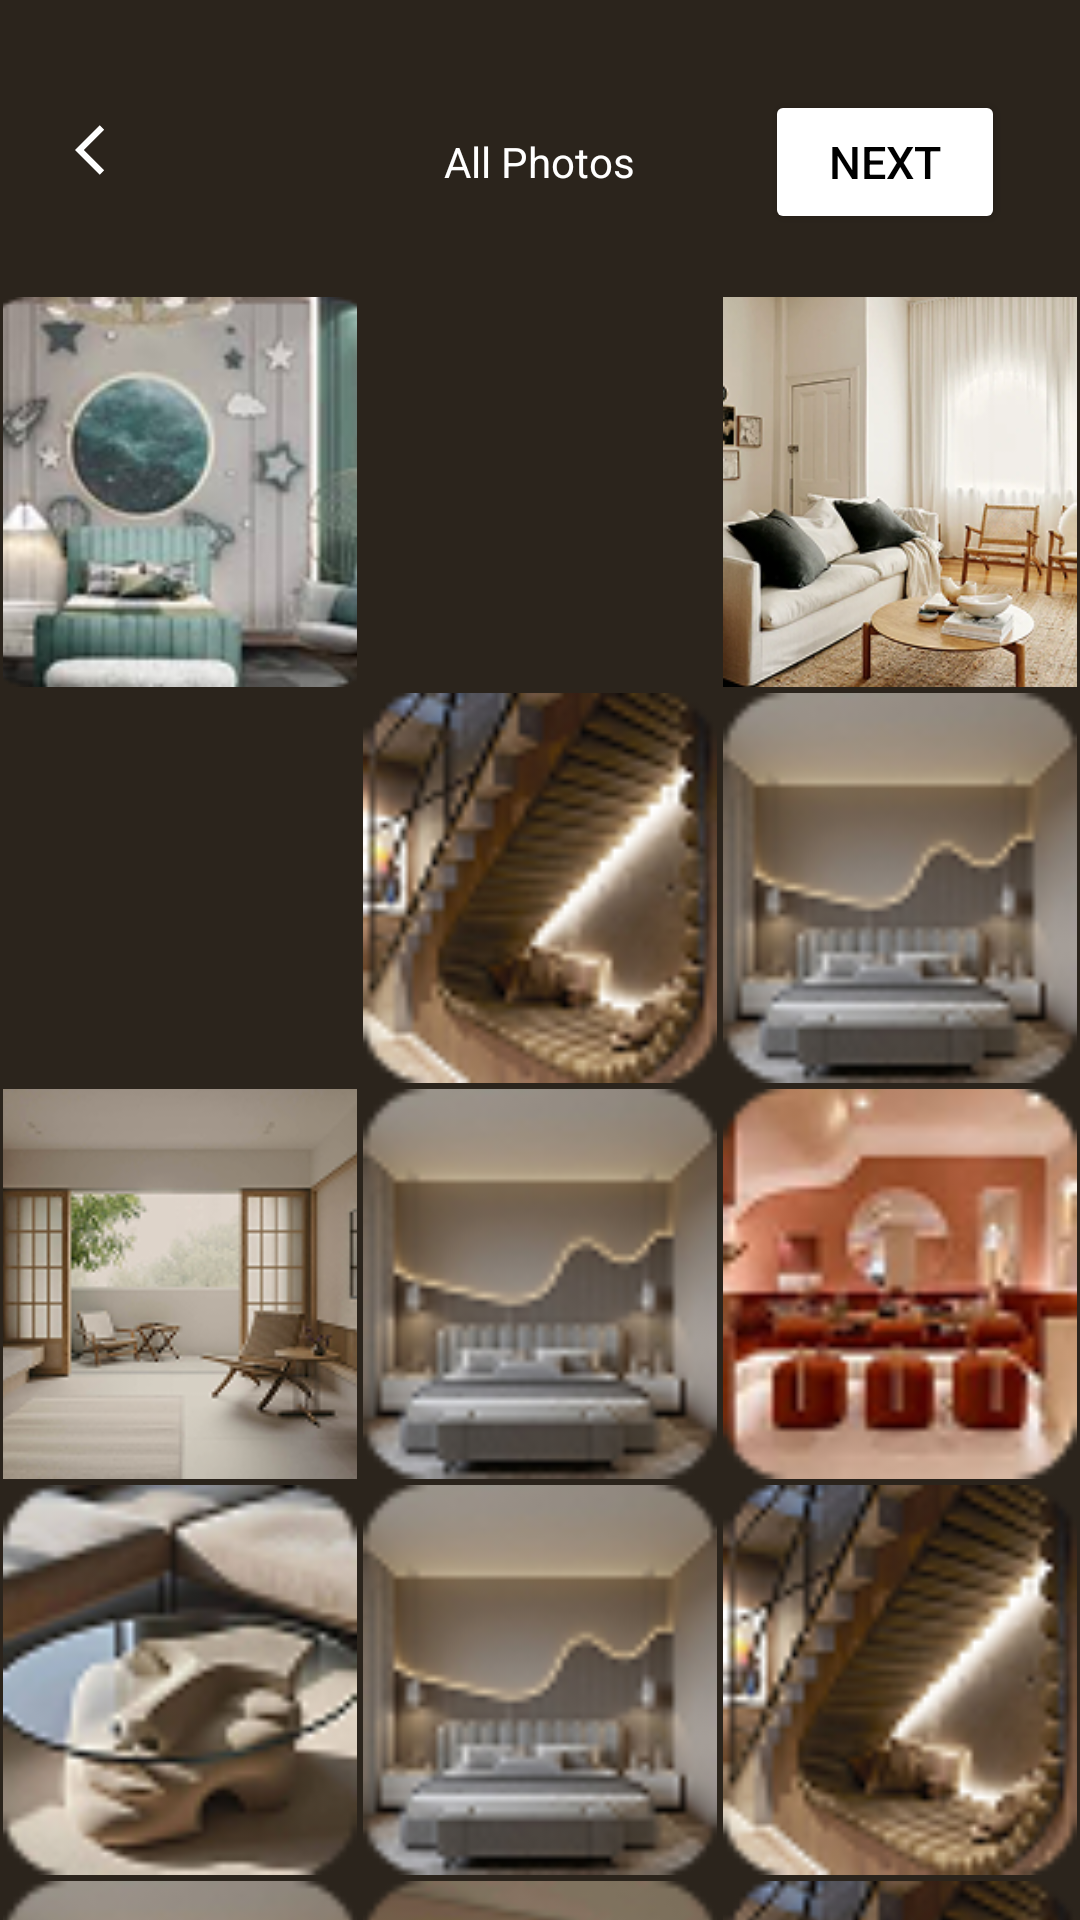

Where icons sit on this 1080px×1920px app screen, as box=[x1, y1, x2, y2]:
back arrow: box=[75, 125, 104, 175]
